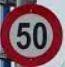Gioi han toc do: (1, 2, 63, 66)
